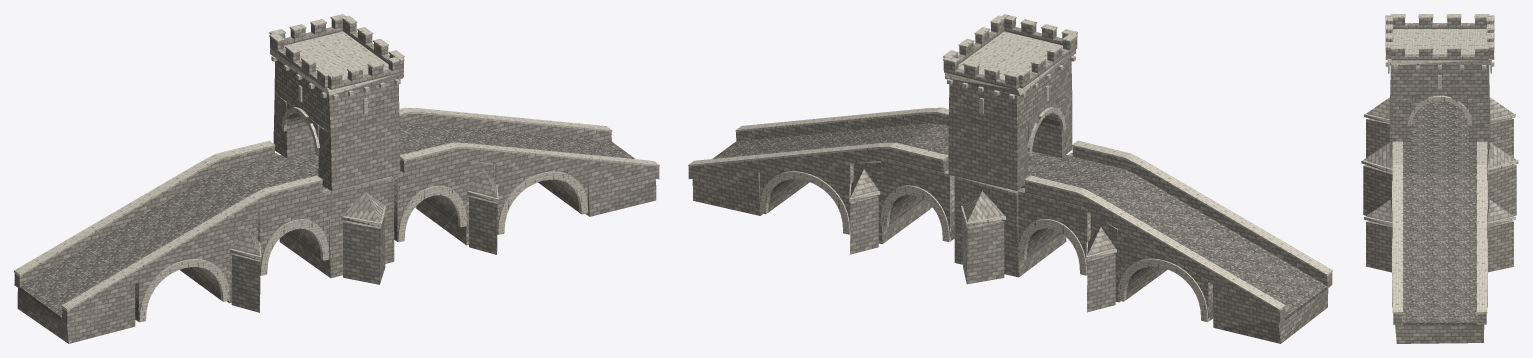
File: puente 1.glb
The picture shows the model from 3 angles, left to right: view 1: azimuth 30°, elevation 25°; view 2: azimuth 150°, elevation 25°; view 3: azimuth 270°, elevation 25°; orthographic projection. The views are drawn at different scales.
Parts seen in each view (by area): view 1: Puente_Medieval_Pilares_Tajamares, Puente_Medieval_Calzada_Adoquin, Puente_Medieval_Torreon_Cuerpo, Puente_Medieval_Pretiles_Silleria, Puente_Medieval_Albardillas, Puente_Medieval_Torreon_Molduras, Puente_Medieval_Timpano_1, Puente_Medieval_Timpano_2, Puente_Medieval_Timpano_0, Puente_Medieval_Timpano_3, Puente_Medieval_Dovelas_0, Puente_Medieval_Dovelas_3 (+7 smaller); view 2: Puente_Medieval_Pilares_Tajamares, Puente_Medieval_Calzada_Adoquin, Puente_Medieval_Torreon_Cuerpo, Puente_Medieval_Pretiles_Silleria, Puente_Medieval_Albardillas, Puente_Medieval_Torreon_Molduras, Puente_Medieval_Timpano_1, Puente_Medieval_Timpano_2, Puente_Medieval_Timpano_0, Puente_Medieval_Timpano_3, Puente_Medieval_Dovelas_0, Puente_Medieval_Dovelas_3 (+7 smaller); view 3: Puente_Medieval_Calzada_Adoquin, Puente_Medieval_Pilares_Tajamares, Puente_Medieval_Torreon_Cuerpo, Puente_Medieval_Torreon_Molduras, Puente_Medieval_Albardillas, Puente_Medieval_Cornisas_Tajamares, Puente_Medieval_Pretiles_Silleria, Puente_Medieval_Dovelas_3.
Boxes of the visible parts, x1,y1,x2,y2 form: Puente_Medieval_Pilares_Tajamares: (17,161,656,343); Puente_Medieval_Calzada_Adoquin: (19,123,634,320); Puente_Medieval_Torreon_Cuerpo: (270,19,403,190); Puente_Medieval_Pretiles_Silleria: (14,113,659,323); Puente_Medieval_Albardillas: (14,107,659,310); Puente_Medieval_Torreon_Molduras: (269,14,404,155); Puente_Medieval_Timpano_1: (260,153,329,266); Puente_Medieval_Timpano_2: (397,159,466,236); Puente_Medieval_Timpano_0: (139,228,229,316); Puente_Medieval_Timpano_3: (497,163,587,231); Puente_Medieval_Dovelas_0: (137,259,229,322); Puente_Medieval_Dovelas_3: (497,171,588,234); Puente_Medieval_Pilares_Tajamares: (692,161,1328,343); Puente_Medieval_Calzada_Adoquin: (712,123,1327,320); Puente_Medieval_Torreon_Cuerpo: (943,19,1077,190); Puente_Medieval_Pretiles_Silleria: (688,113,1332,323); Puente_Medieval_Albardillas: (688,107,1332,310); Puente_Medieval_Torreon_Molduras: (943,14,1077,155); Puente_Medieval_Timpano_1: (1018,152,1087,275); Puente_Medieval_Timpano_2: (881,159,949,239); Puente_Medieval_Timpano_0: (1118,228,1208,318); Puente_Medieval_Timpano_3: (760,163,850,230); Puente_Medieval_Dovelas_0: (1117,258,1209,322); Puente_Medieval_Dovelas_3: (759,171,850,234); Puente_Medieval_Calzada_Adoquin: (1402,98,1477,325); Puente_Medieval_Pilares_Tajamares: (1363,97,1516,343); Puente_Medieval_Torreon_Cuerpo: (1385,18,1494,149); Puente_Medieval_Torreon_Molduras: (1385,14,1494,125); Puente_Medieval_Albardillas: (1392,141,1487,313); Puente_Medieval_Cornisas_Tajamares: (1361,114,1518,225); Puente_Medieval_Pretiles_Silleria: (1393,313,1486,324); Puente_Medieval_Dovelas_3: (1392,238,1487,307).
Size of the model in its own units: 22 by 7.41 by 5.7.
19 materials, 19 textured.
